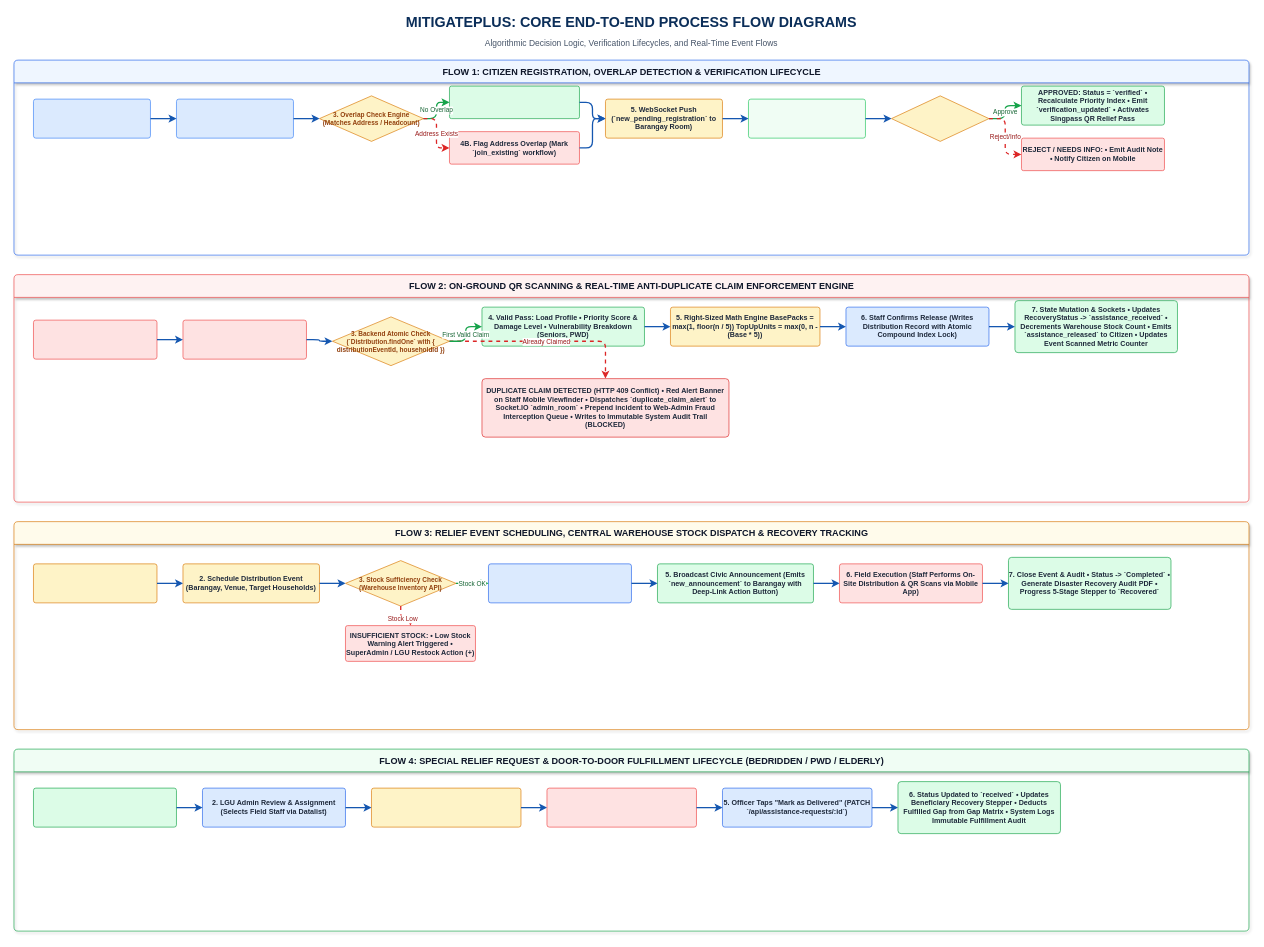
This 1264x947 diagram has some shape labels left out. The centre of each missing label's shape, as x and y in pixels:
1. Barangay Official or Citizen Submits Special Request (No phone / PWD): point (104, 807)
1. Citizen Enters Mobile App (Fills 2-Step Registration Wizard): point (91, 118)
1. Field Staff Launches StaffScannerScreen & Selects Event: point (95, 339)
1. LGU Admin Identifies Need (Via Heatmap or Risk Metrics): point (95, 583)
2. OTP Verification (Semaphore SMS or Gmail SMTP): point (234, 118)
2. Scans Beneficiary QR Pass (or Manual Alphanumeric Entry): point (244, 339)
3. Dispatches Task to Staff Mobile App (`SpecialRequestAssignmentScreen`): point (446, 807)
4. Dispatch Stock from Warehouse (Records WarehouseLog Movement): point (559, 583)
4. Field Officer Delivers to Home (Brings right-sized food/medical kits): point (621, 807)
4A. New Household Pass (Generates QR + Initial Priority Score): point (514, 102)
6. Barangay Official Review (Inspects Roster, ID, Overlap): point (806, 118)
7. Verification Decision?: point (940, 118)
